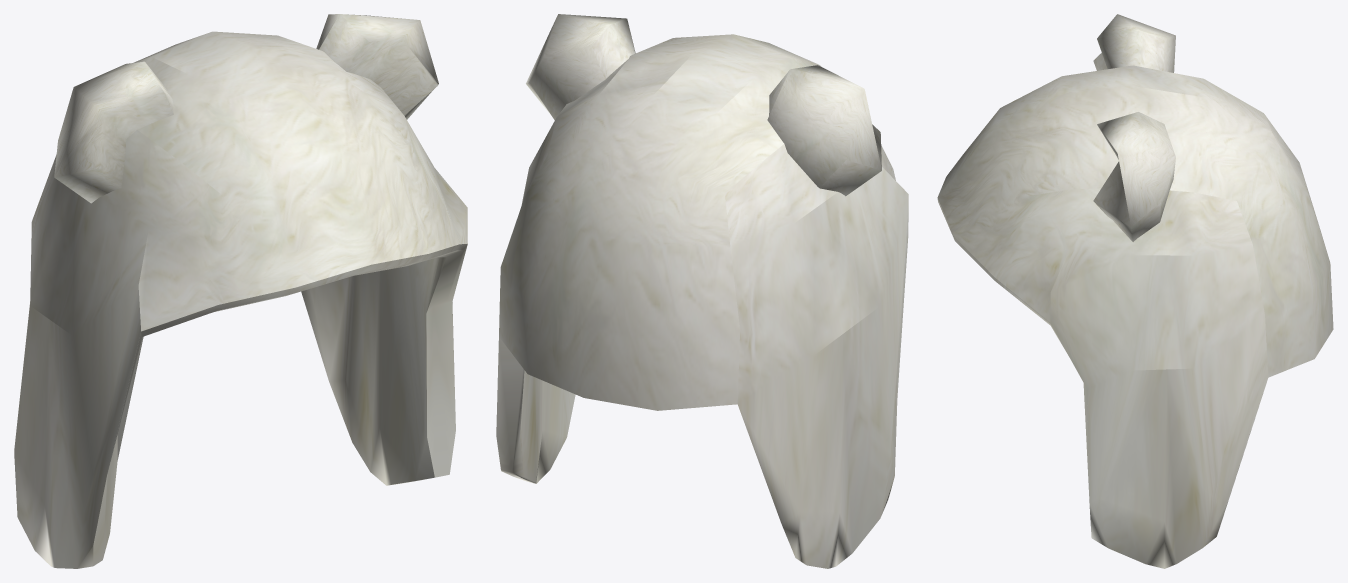
Rendered from moza.fbx.
3 views of the same model, side by side, from view 1: azimuth 30°, elevation 25°; view 2: azimuth 150°, elevation 25°; view 3: azimuth 270°, elevation 25° (orthographic). The views are drawn at different scales.
Parts seen in each view (by area): view 1: pCube3; view 2: pCube3; view 3: pCube3.
Boxes of the visible parts, bbox=[...] form: pCube3: bbox=[14, 14, 467, 568]; pCube3: bbox=[496, 14, 908, 568]; pCube3: bbox=[937, 14, 1333, 568].
Bounding box in the file's own units: 29.35 × 36.7 × 30.72.
1 material, 1 textured.
